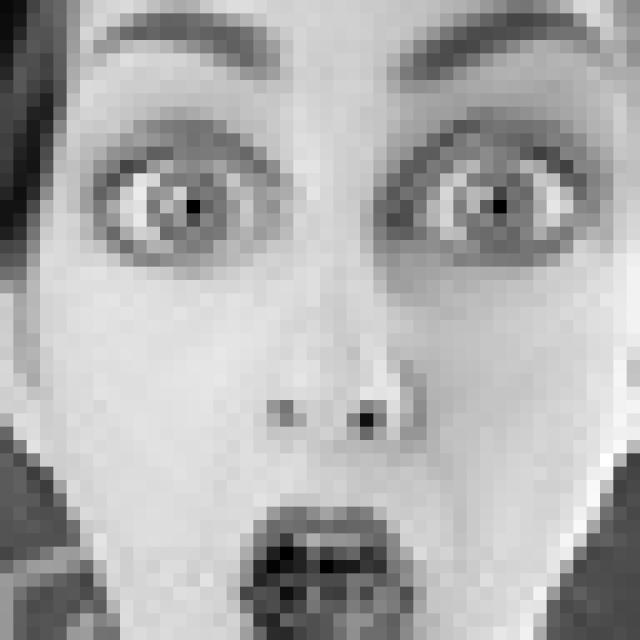surprise: (93, 1, 611, 640)
